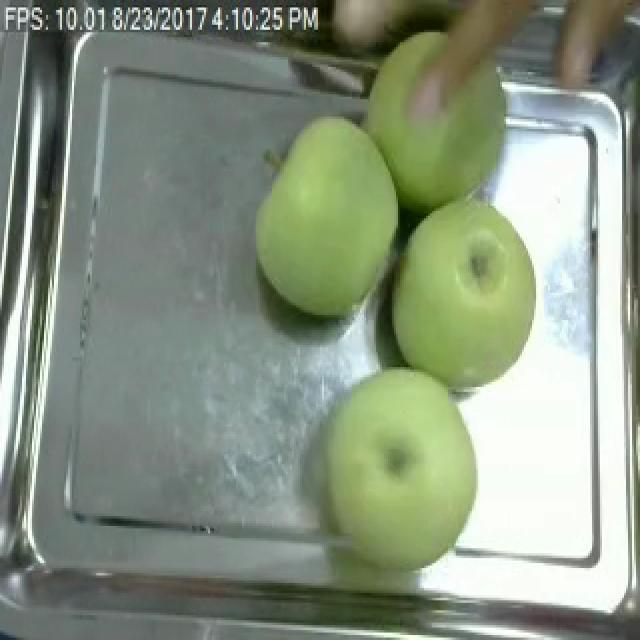50-_ripeness: (236, 84, 407, 337), (295, 352, 487, 572), (390, 196, 548, 385)
